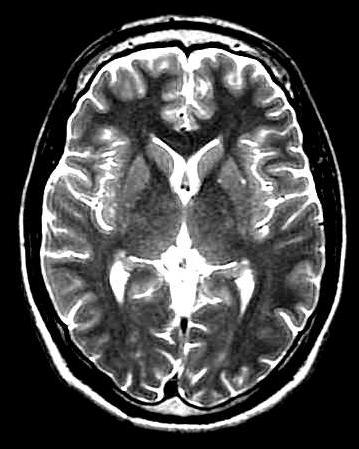Normal_Brain: (1, 5, 357, 449)
